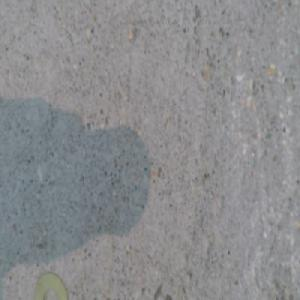Washer: (34, 272, 68, 298)
